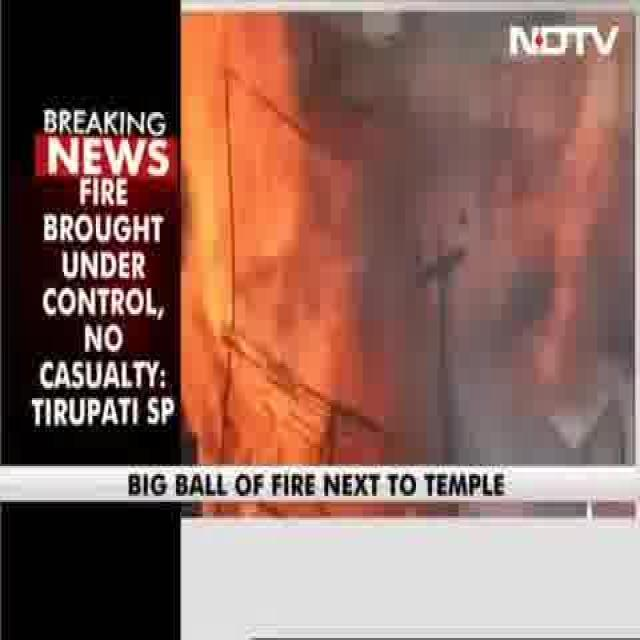Fire: (172, 23, 310, 457)
